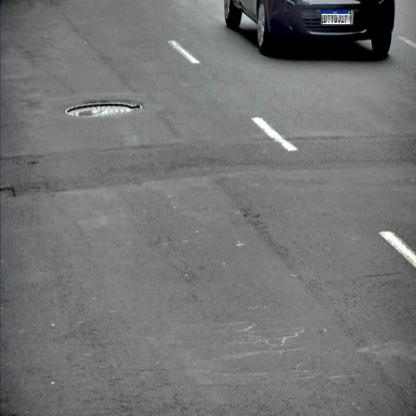PlacaM: (321, 10, 351, 25)
